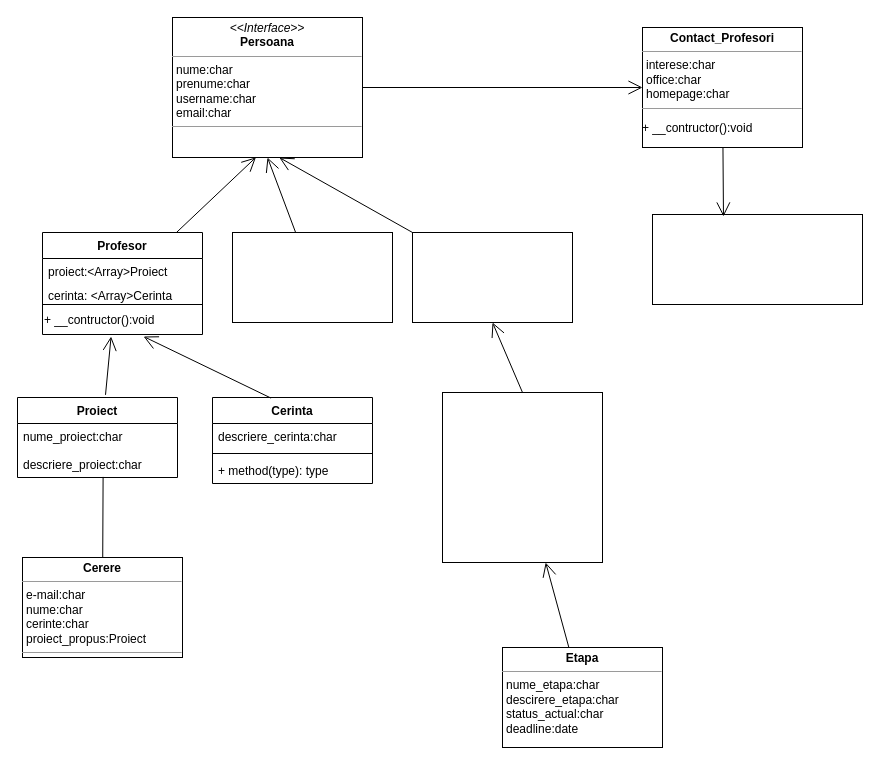
This 880x765 diagram has some shape labels left out. The shapes that lost their labels are listed below. From the top down, each one's centre as x and y in pixels, then its label:
At point 312,277: "Admin departament:string + __contructor():void".
At point 492,277: "Student an_studiu:int + __contructor():void".
At point 757,259: "Contact contacte: <Array>Contact_Profesofi + method(): Type".
At point 522,477: "Profil grupa:int program_studiu: cha etape: <Array>Etapa + method(): Type".
